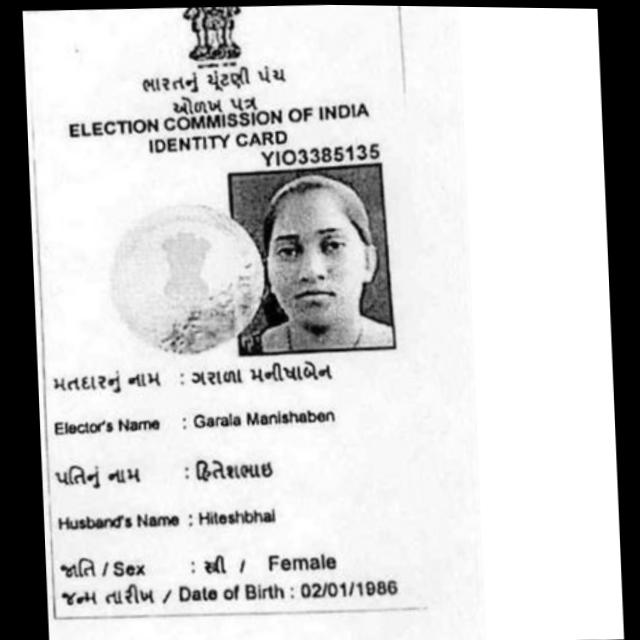voter_id: (21, 0, 451, 632)
